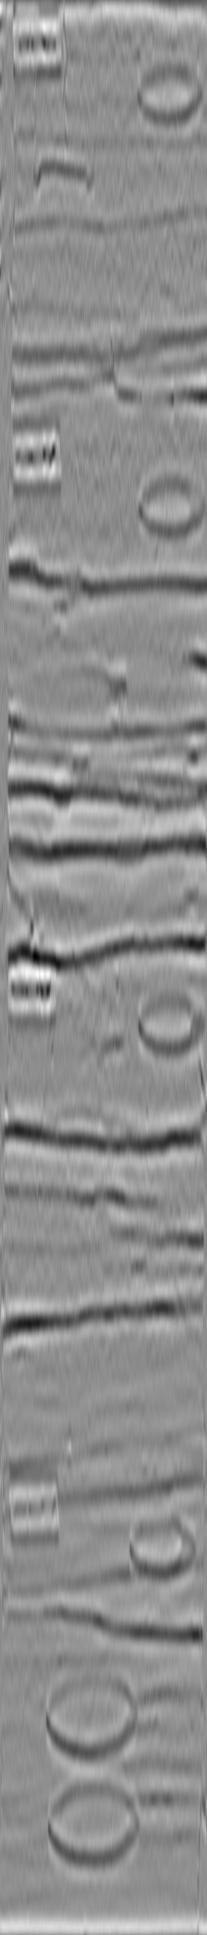hplug: (132, 466, 207, 542), (131, 56, 207, 130), (134, 986, 207, 1060), (124, 1510, 200, 1582)
scal: (39, 1775, 145, 1872), (39, 1668, 148, 1763)
vplug: (27, 1, 108, 193), (42, 956, 110, 1122)
